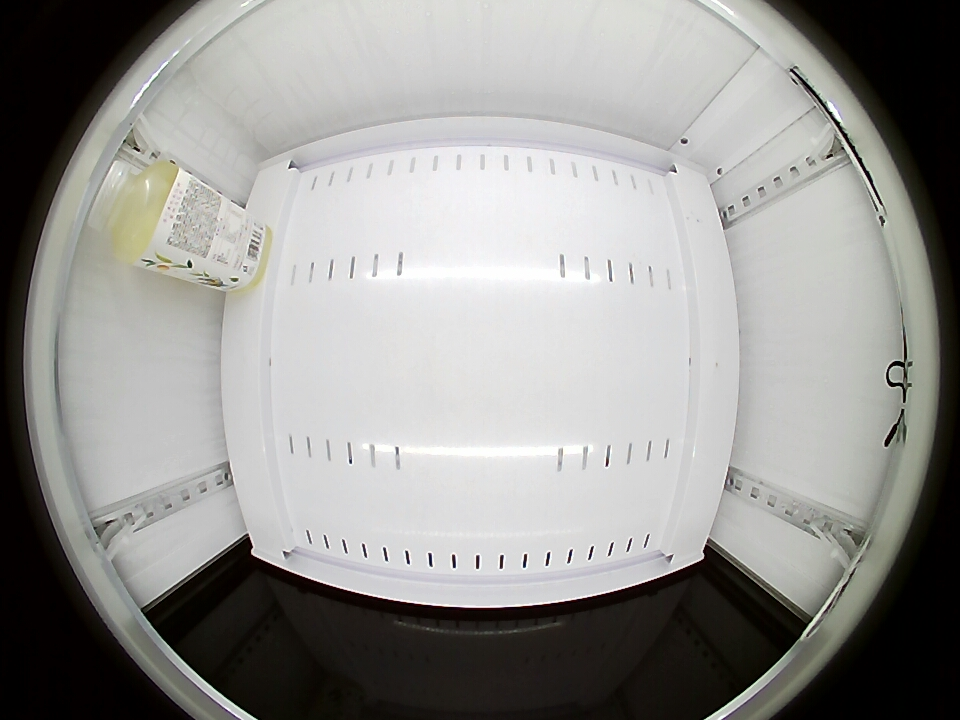chapai2: (99, 159, 187, 269)
